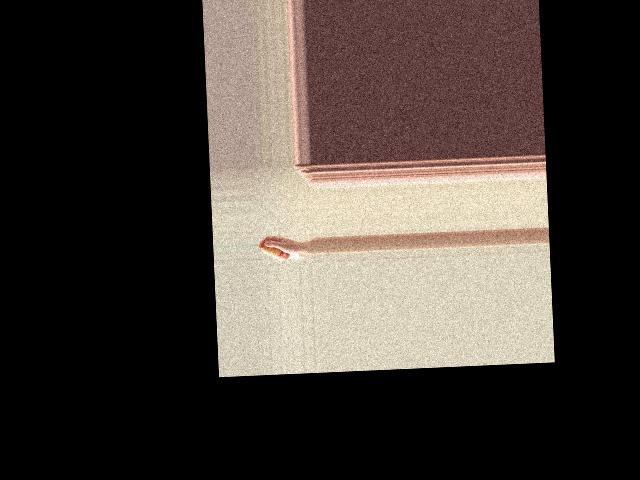egg: (261, 241, 282, 257)
